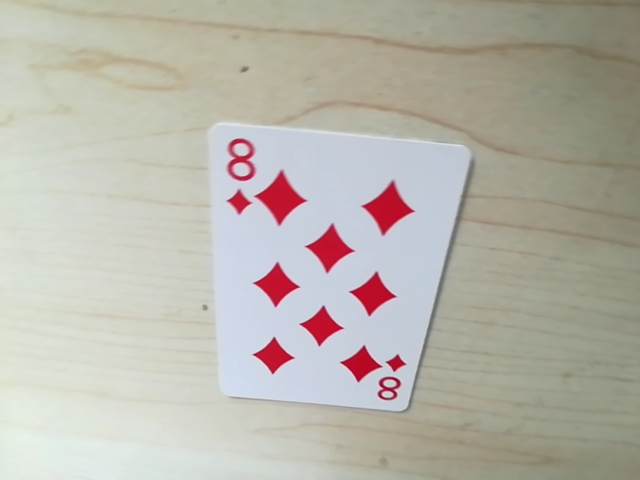fk 8: (214, 131, 267, 197), (373, 358, 407, 405)
